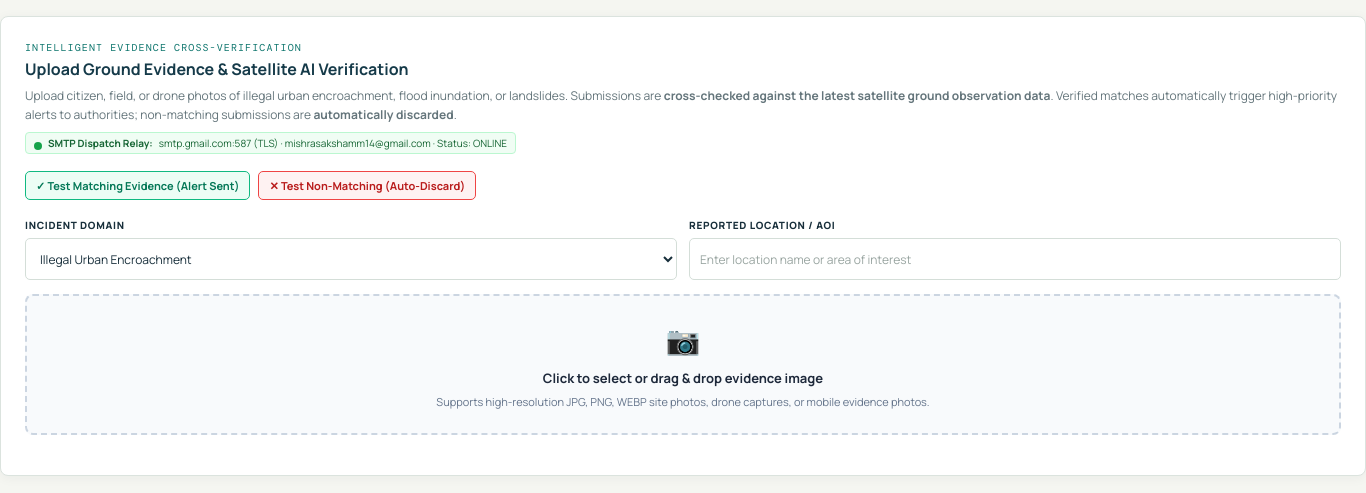
Test case: EvidenceUploadVerification Component › clears evidence state when user clicks Remove
Click the button "✓ Test Matching Evidence (Alert Sent)" at (138, 186), box [25, 171, 250, 200]
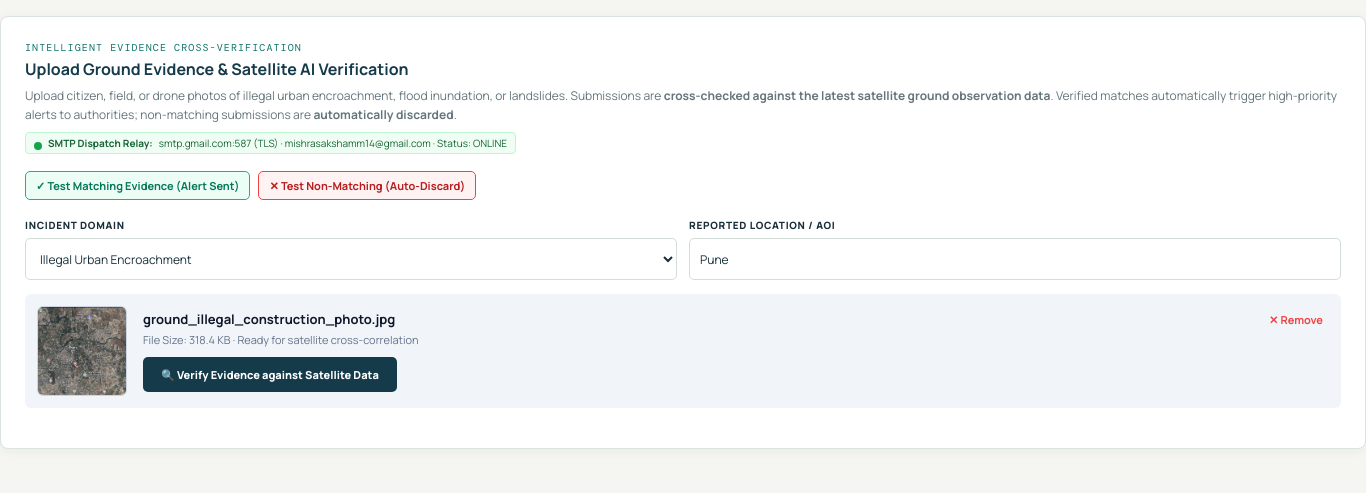
expect the text "ground_illegal_construction_photo.jpg" is shown: met, box [143, 310, 395, 328]
Click the button "✕ Remove" at (1296, 319), box [1263, 311, 1329, 328]
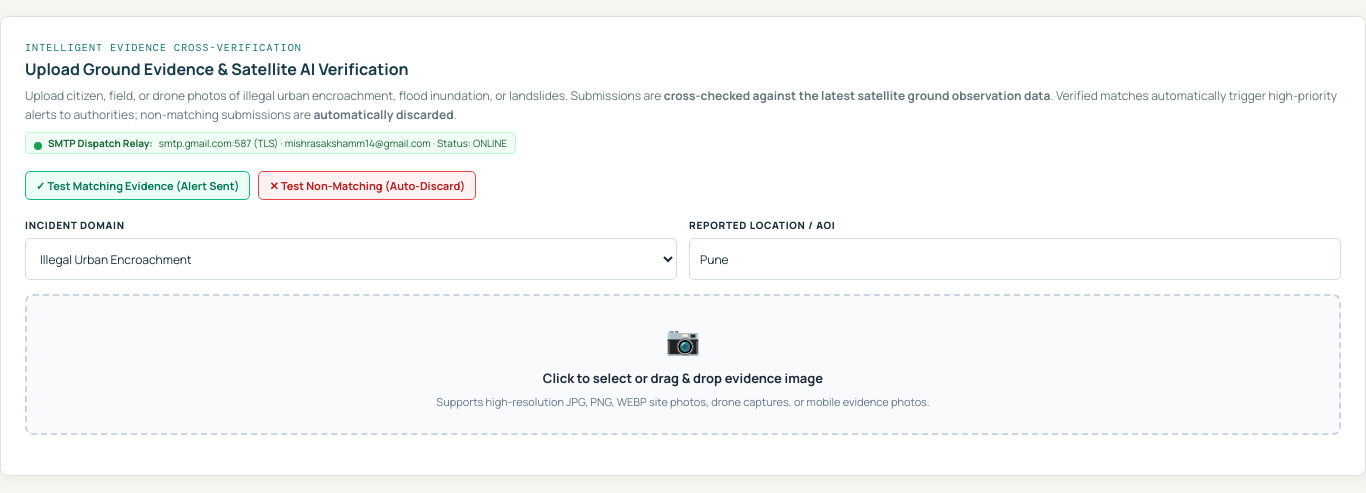
expect the text "ground_illegal_construction_photo.jpg" is gone: met
expect the text "Click to select or drag & drop evidence image" is shown: met, box [543, 369, 823, 387]
